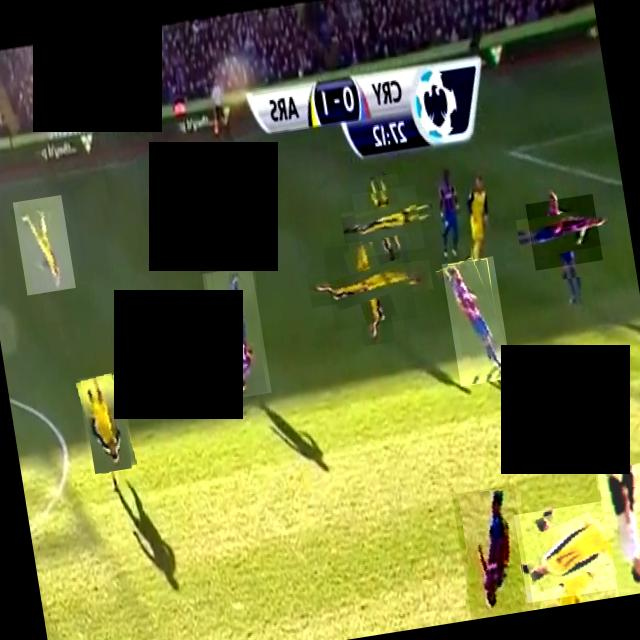referee: (595, 461, 640, 597)
soccer-player: (451, 484, 533, 620), (512, 500, 614, 602), (441, 255, 512, 386), (201, 266, 270, 400), (322, 235, 416, 330), (12, 194, 75, 295), (76, 371, 135, 475), (524, 193, 602, 270), (351, 184, 424, 257), (178, 174, 228, 268)
